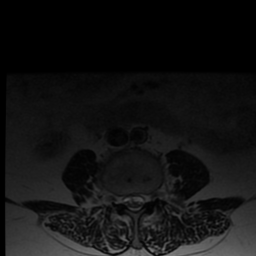CCS_normal: (129, 186, 137, 218)
LFS_normal: (145, 184, 154, 209)
LLS_normal: (137, 186, 145, 213)
RFS_normal: (114, 185, 121, 212)
RLS_normal: (121, 187, 129, 214)
